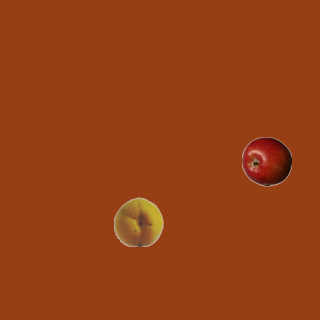Apple Braeburn: (241, 136, 291, 186)
Peach 2: (113, 196, 163, 246)
